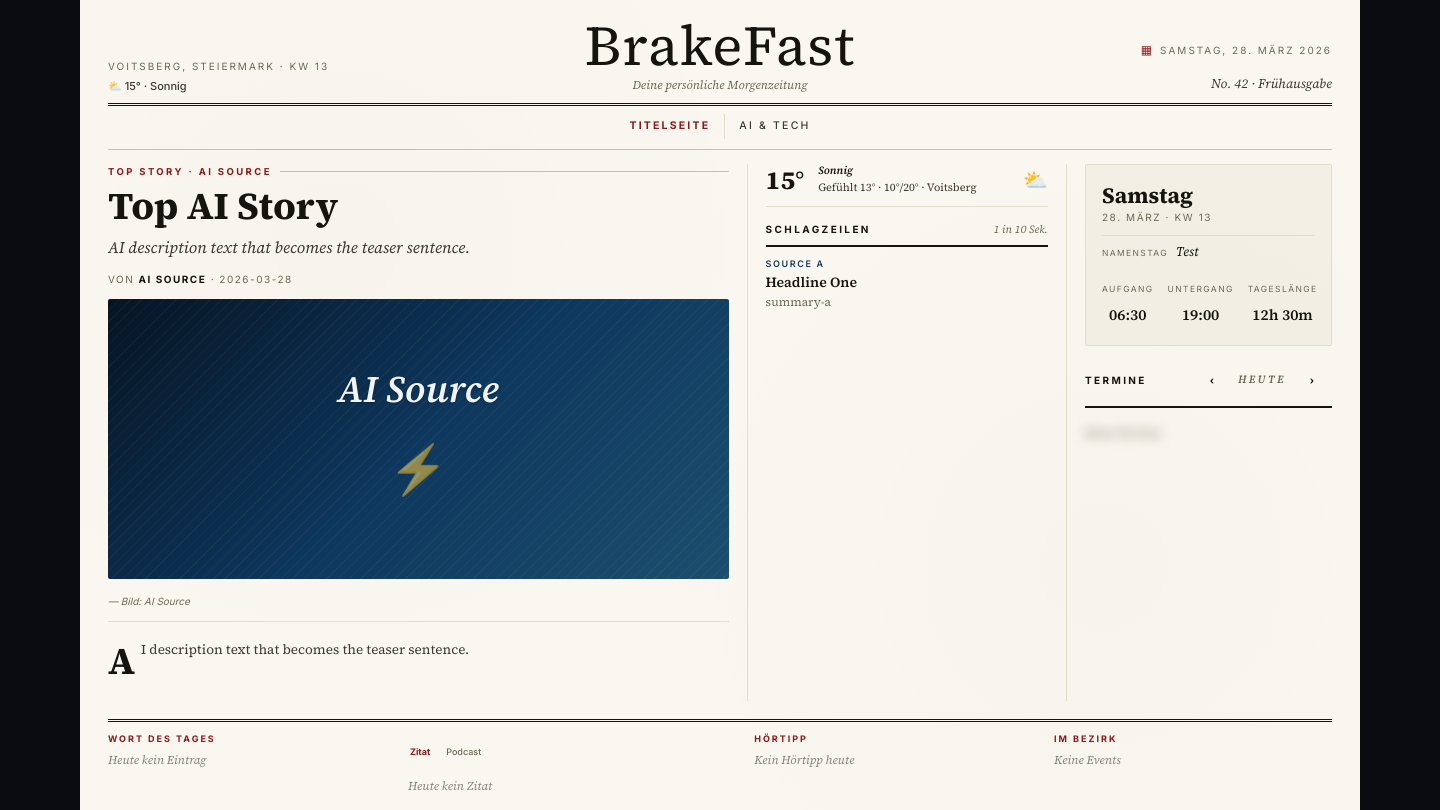
Test case: EditorialFirstScreen › opens weather modal on click and closes on Escape (PAR-03 + A11Y-01 parity route)
Click the button with class "ed-weather-row": click(907, 186) [766, 164, 1048, 207]
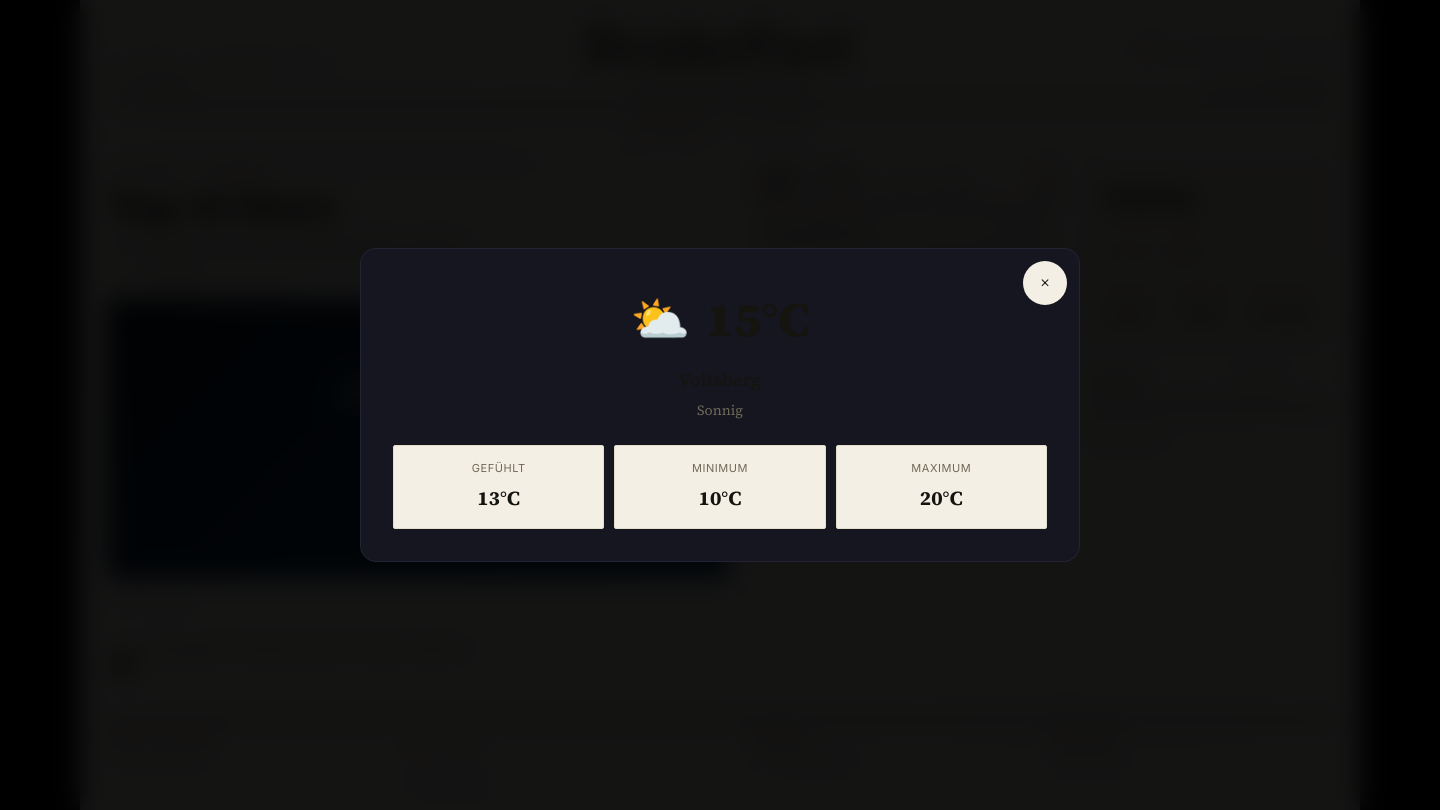
Check: the element with class "weather-modal" is shown, box [360, 248, 1080, 562]
Press Escape
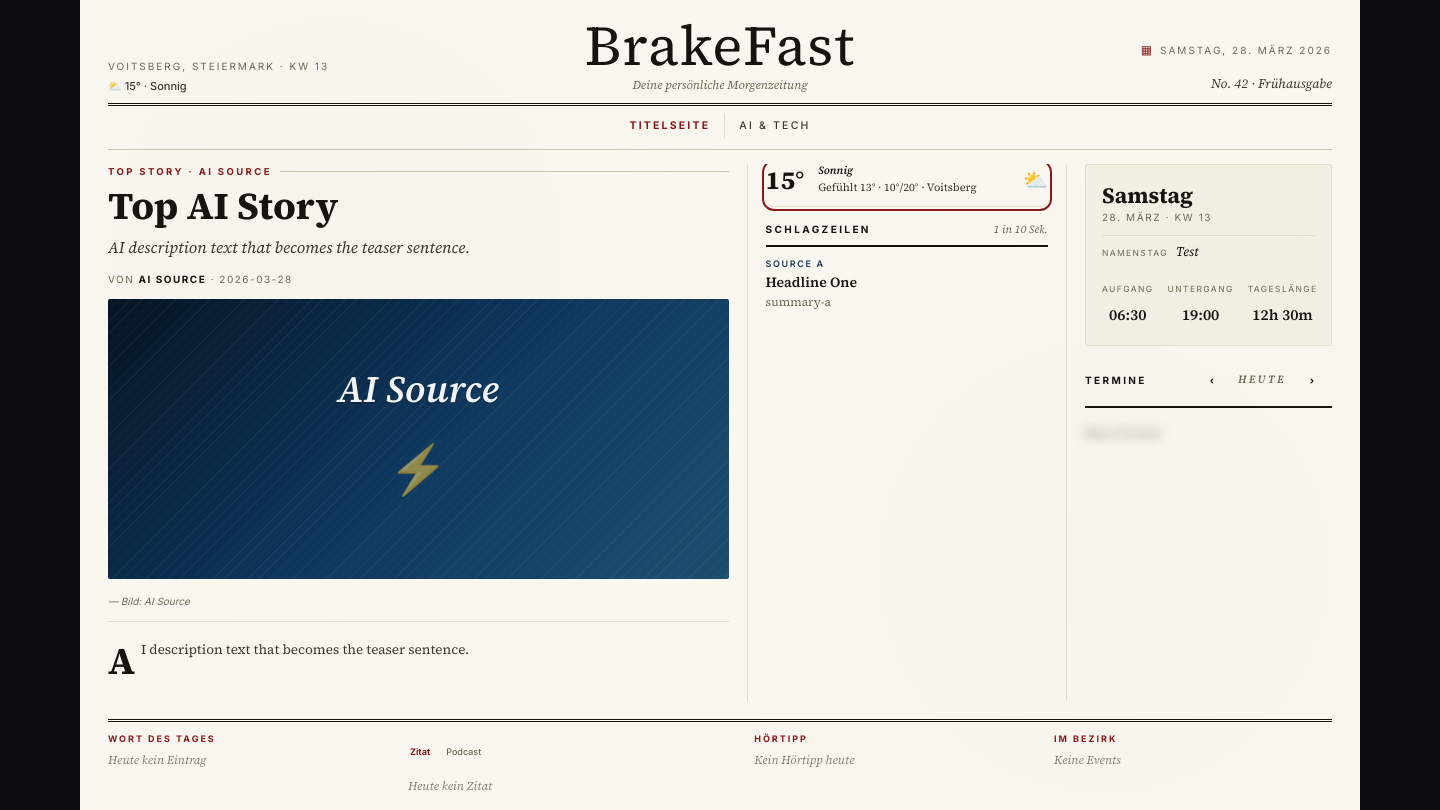
Check: the element with class "weather-modal" is gone
